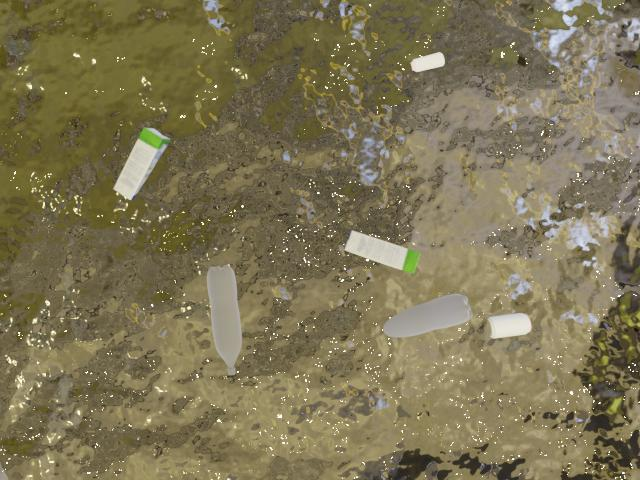Metal: (484, 299, 543, 354), (409, 48, 455, 75)
Plastic: (202, 248, 263, 380), (360, 287, 479, 345)
Trash: (70, 107, 197, 206), (341, 225, 428, 278)
